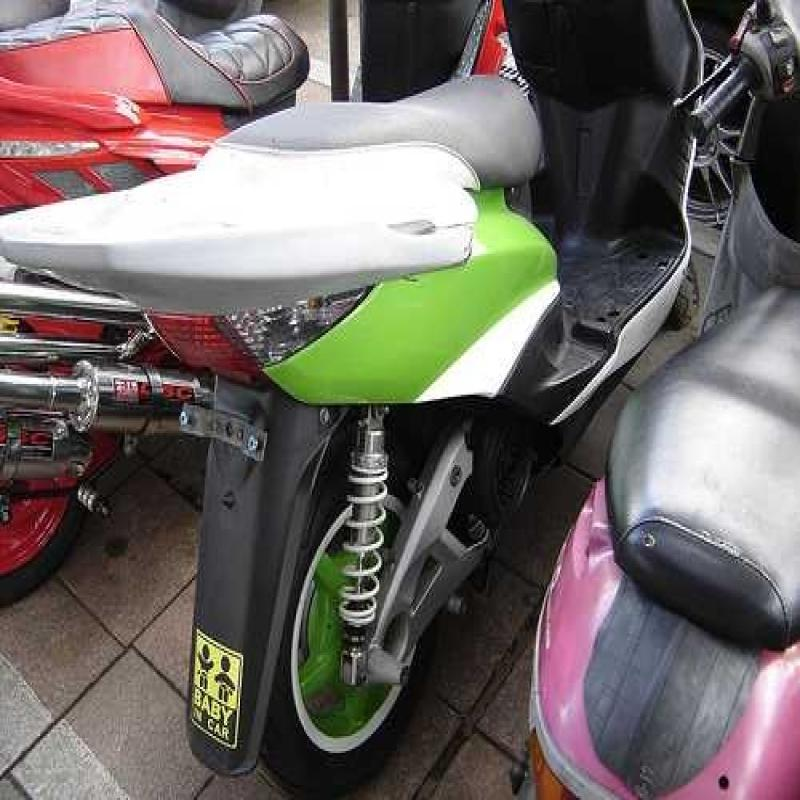bike: (117, 0, 661, 762), (549, 0, 792, 783)
